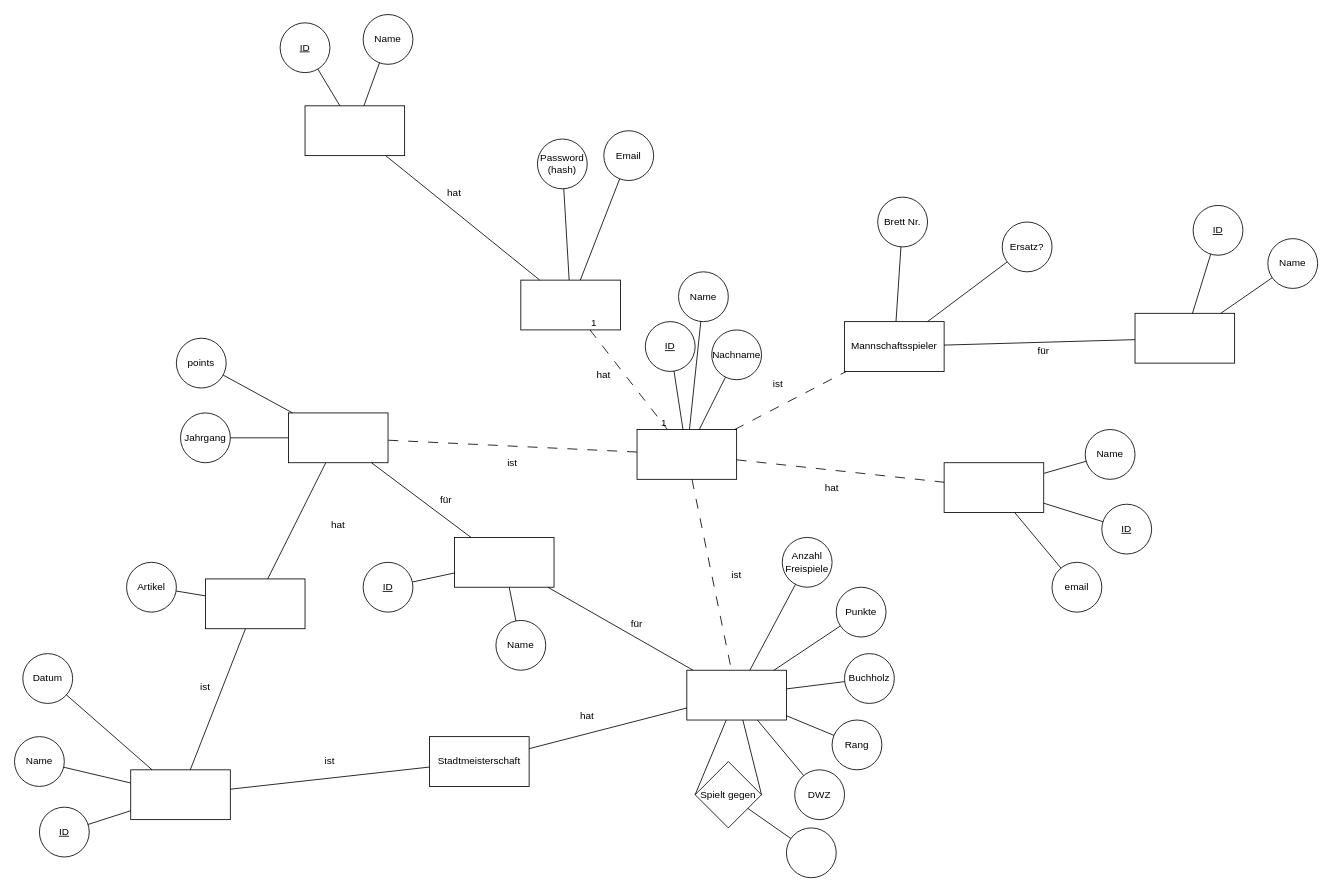
Image size: 1332x892. Some labels were removed from this diagram. The box of each missing label's shape, as (x1, y1, x2, y2) in pixels:
Account: (520, 279, 620, 330)
Ergebniss: (786, 827, 836, 878)
Mannschaft: (1134, 312, 1235, 363)
Person: (636, 429, 737, 479)
Rolle: (304, 105, 405, 156)
Schule/Verein: (454, 537, 554, 587)
Sparkassen Jugend Open: (205, 578, 305, 629)
Sparkassen Jugend Open Teilnehmer: (288, 412, 388, 463)
Stadtmeisterschafts- Teilnehmer: (686, 669, 786, 720)
Turnier: (130, 769, 230, 820)
Vorstands-Rolle: (943, 462, 1044, 513)
